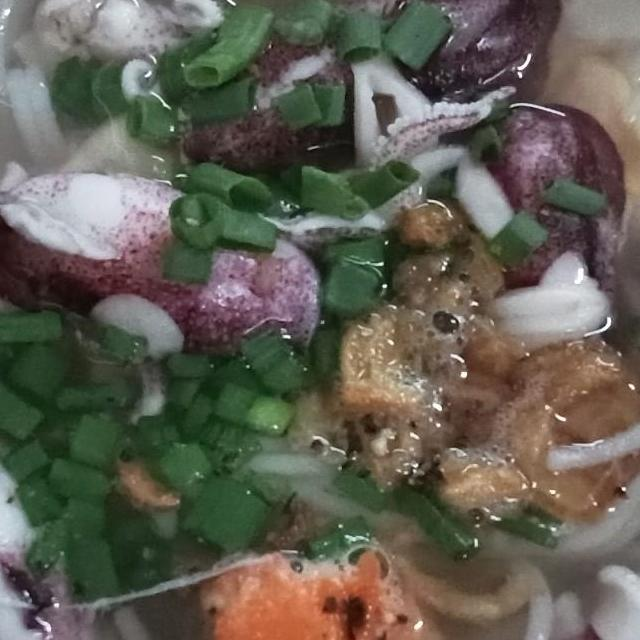bun: (541, 197, 640, 584), (0, 0, 107, 178)
muc: (155, 0, 565, 201), (0, 159, 334, 376), (439, 91, 630, 334), (0, 424, 156, 640)
trung: (517, 0, 640, 304)
